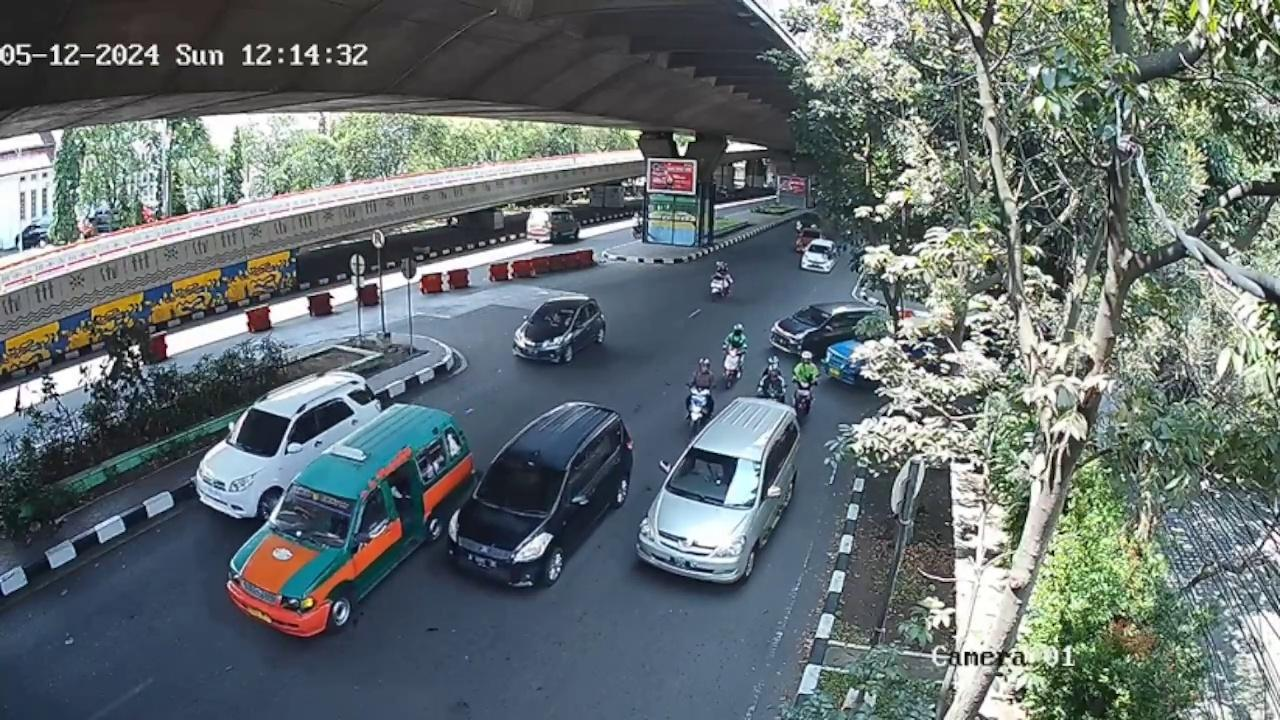pakai: (693, 457, 726, 491)
windshield: (267, 479, 359, 547), (476, 454, 570, 517), (672, 448, 762, 508), (231, 410, 289, 455), (526, 299, 576, 336)
